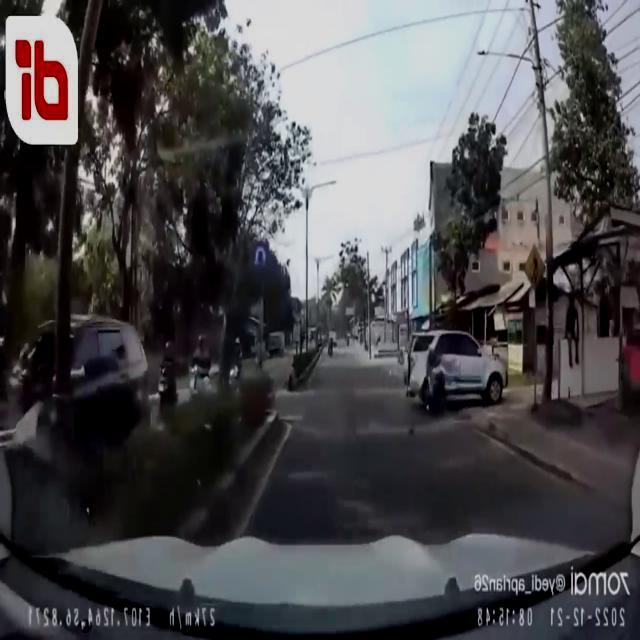accident: (400, 324, 510, 420)
non-accident: (0, 311, 244, 474)
